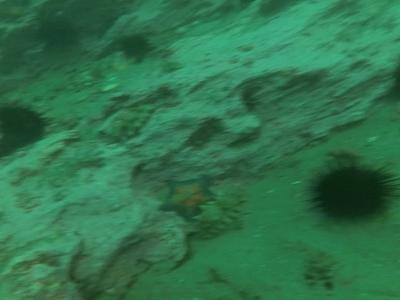holothurian: (192, 178, 248, 246)
urchin: (306, 154, 395, 229), (4, 100, 49, 154), (118, 31, 154, 67)
